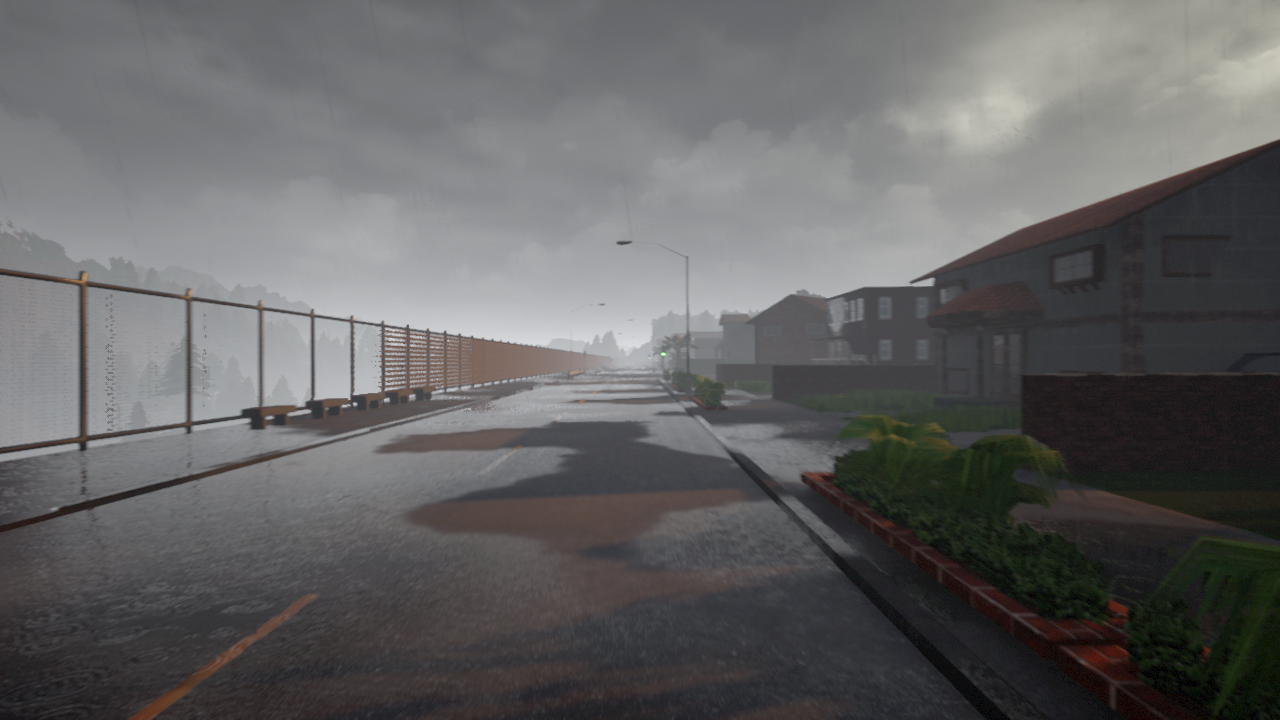green: (660, 345, 666, 357)
